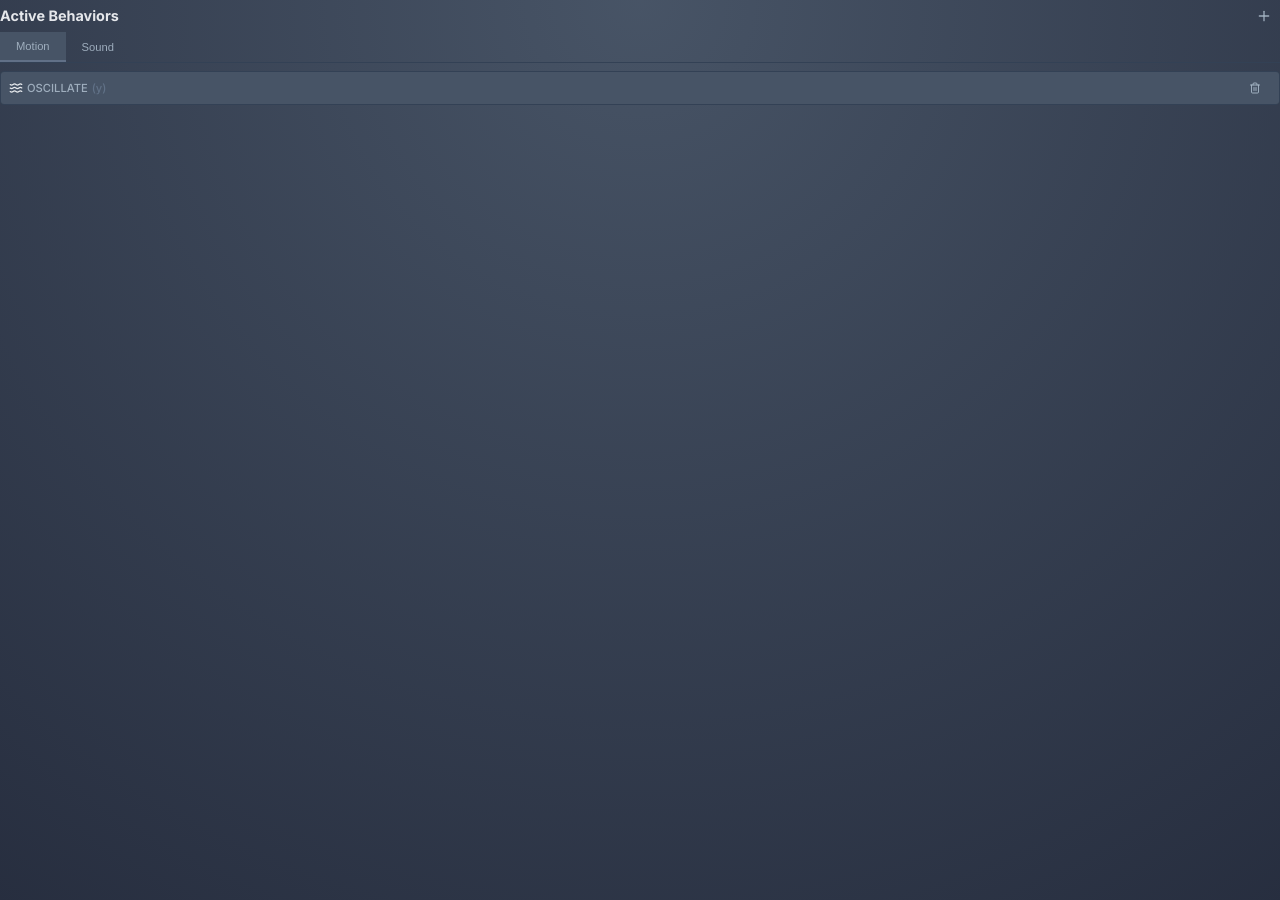
Test: BehaviorEditor › behavior cards › shows frequency label for oscillate behavior when expanded
The image size is (1280, 900).
// Cards are collapsed by default, click to expand
Step 1. Click the text "OSCILLATE(y)" → click(67, 88), box [27,81,106,95]
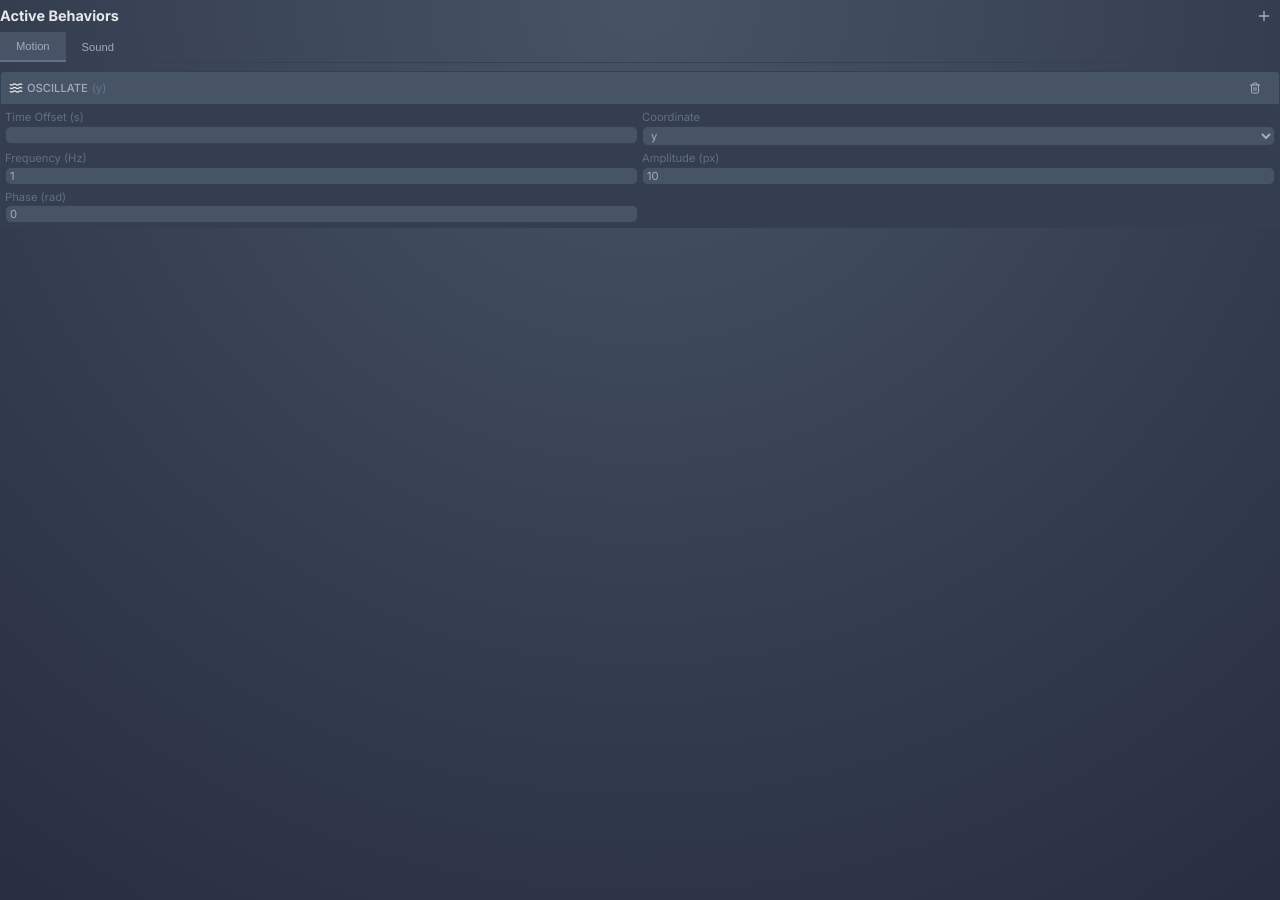
Now the text "Frequency (Hz)" is shown, box [5,151,87,165]
